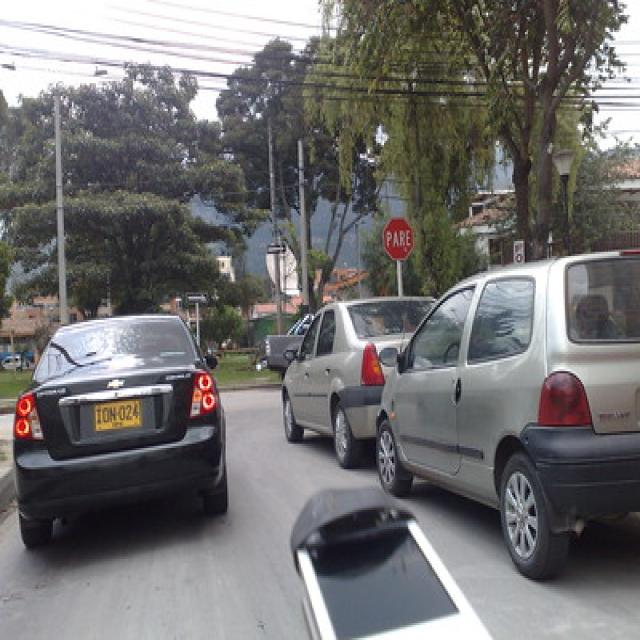placa_carro: (82, 393, 145, 435)
